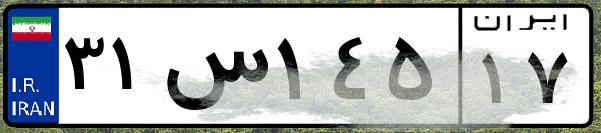1: (270, 28, 330, 110), (475, 38, 525, 113), (110, 28, 158, 98)
3: (57, 26, 110, 100)
4: (330, 28, 385, 110)
5: (385, 28, 445, 110)
7: (525, 38, 570, 115)
س: (158, 20, 270, 120)
